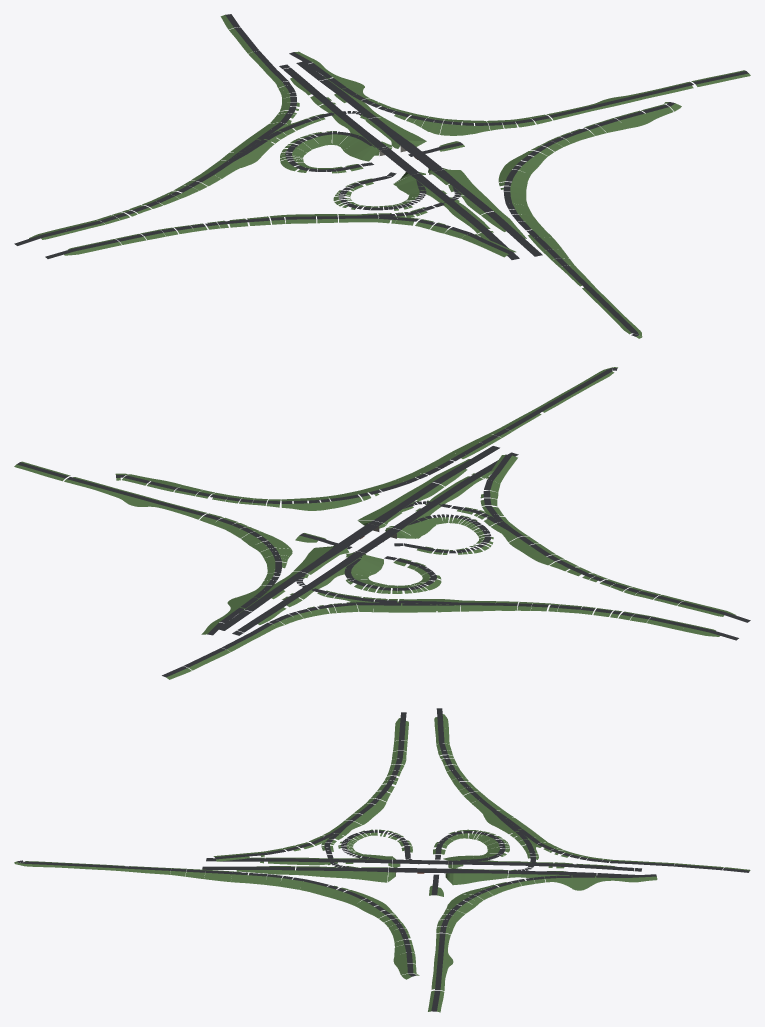
File: br_y79_bremner_lod1.gltf
3 views of the same model, one above another, from view 1: azimuth 30°, elevation 25°; view 2: azimuth 150°, elevation 25°; view 3: azimuth 270°, elevation 25° (orthographic). The views are drawn at different scales.
Visible parts, largest first — view 1: br_y79_bremner_lod1; view 2: br_y79_bremner_lod1; view 3: br_y79_bremner_lod1.
Part boxes in pixels (x1=…): br_y79_bremner_lod1: x1=14, y1=14, x2=750, y2=338; br_y79_bremner_lod1: x1=14, y1=367, x2=750, y2=679; br_y79_bremner_lod1: x1=14, y1=708, x2=750, y2=1012.
Bounding box in the file's own units: 1101 × 13.03 × 1139.
